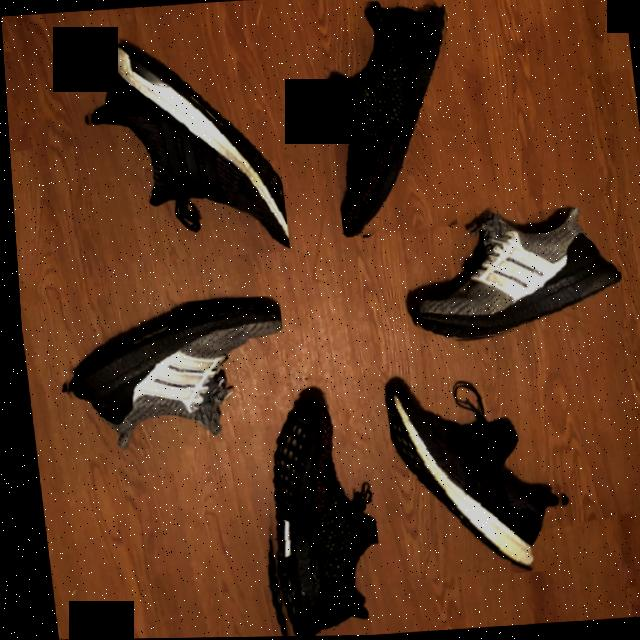shoe: (72, 30, 287, 264), (379, 373, 572, 581), (47, 296, 291, 456), (317, 0, 471, 239), (241, 389, 380, 637), (397, 206, 624, 347)
